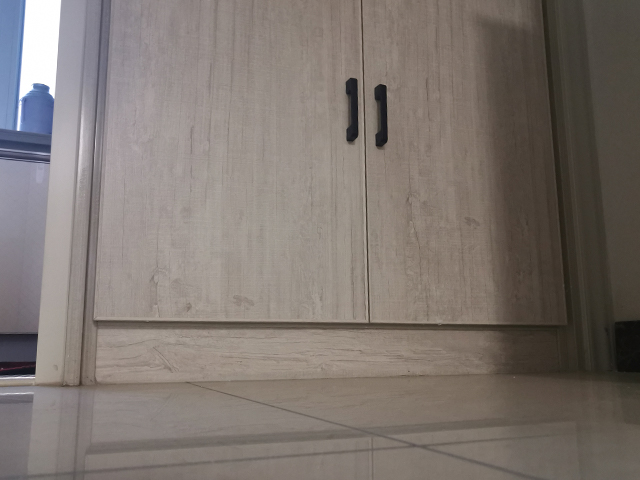cabinet: (32, 1, 618, 390)
